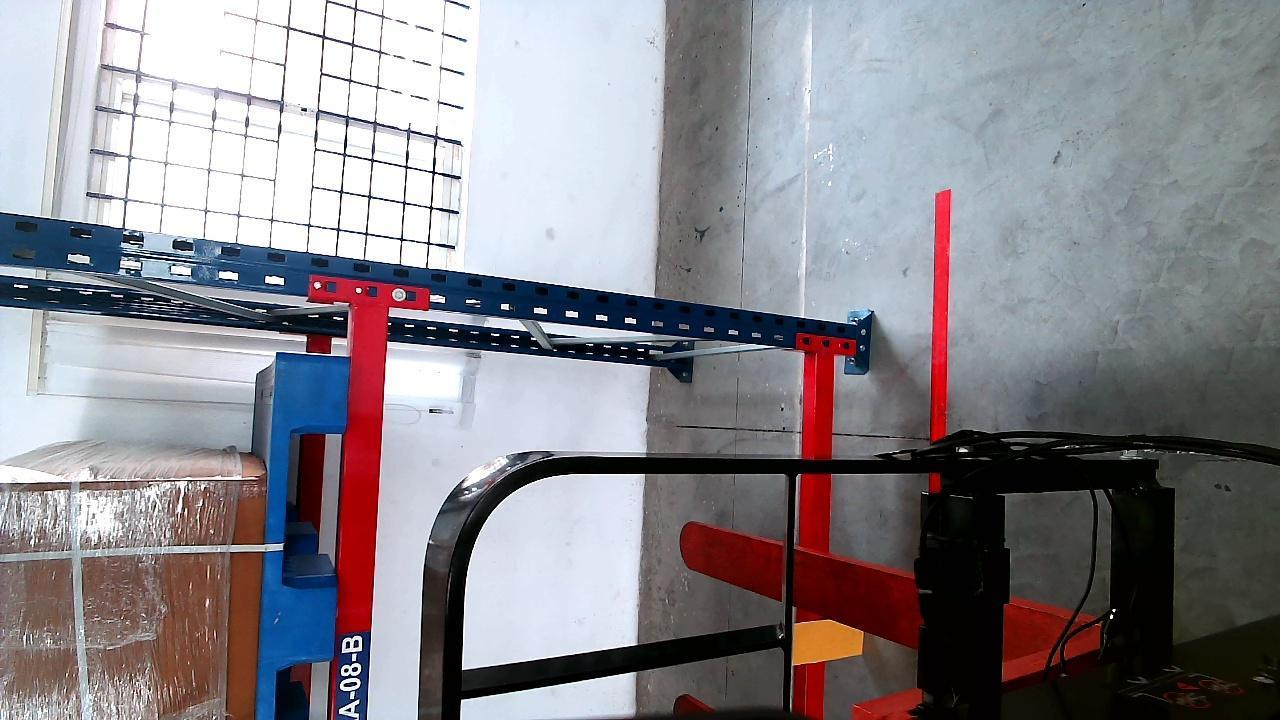h_rack: (332, 300, 391, 720), (804, 351, 842, 714)
orange_strip: (791, 617, 855, 659)
red_line: (930, 181, 952, 440)
small_pallet: (257, 353, 351, 720)
